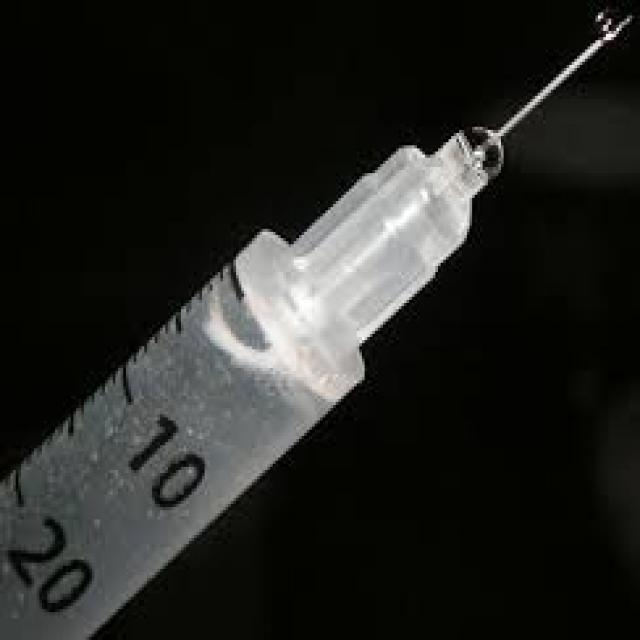syringe: (73, 25, 631, 633)
